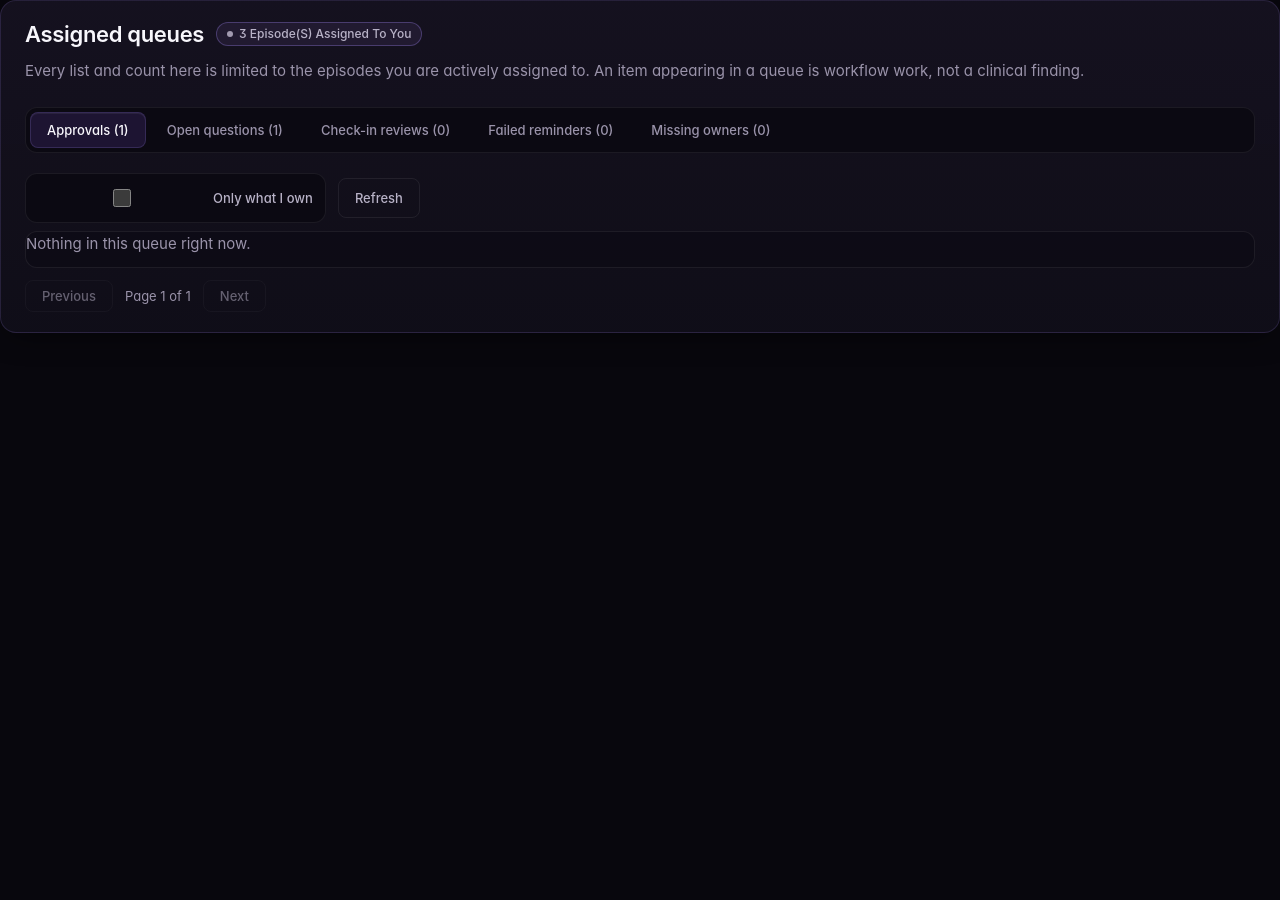
Test: AssignedQueues › renders a clarification answer as escaped text and offers the review actions
This screenshot has width=1280, height=900.
Click the tab "Open questions (1)". click: (225, 130)
box: top-left (150, 112), bottom-right (300, 148)
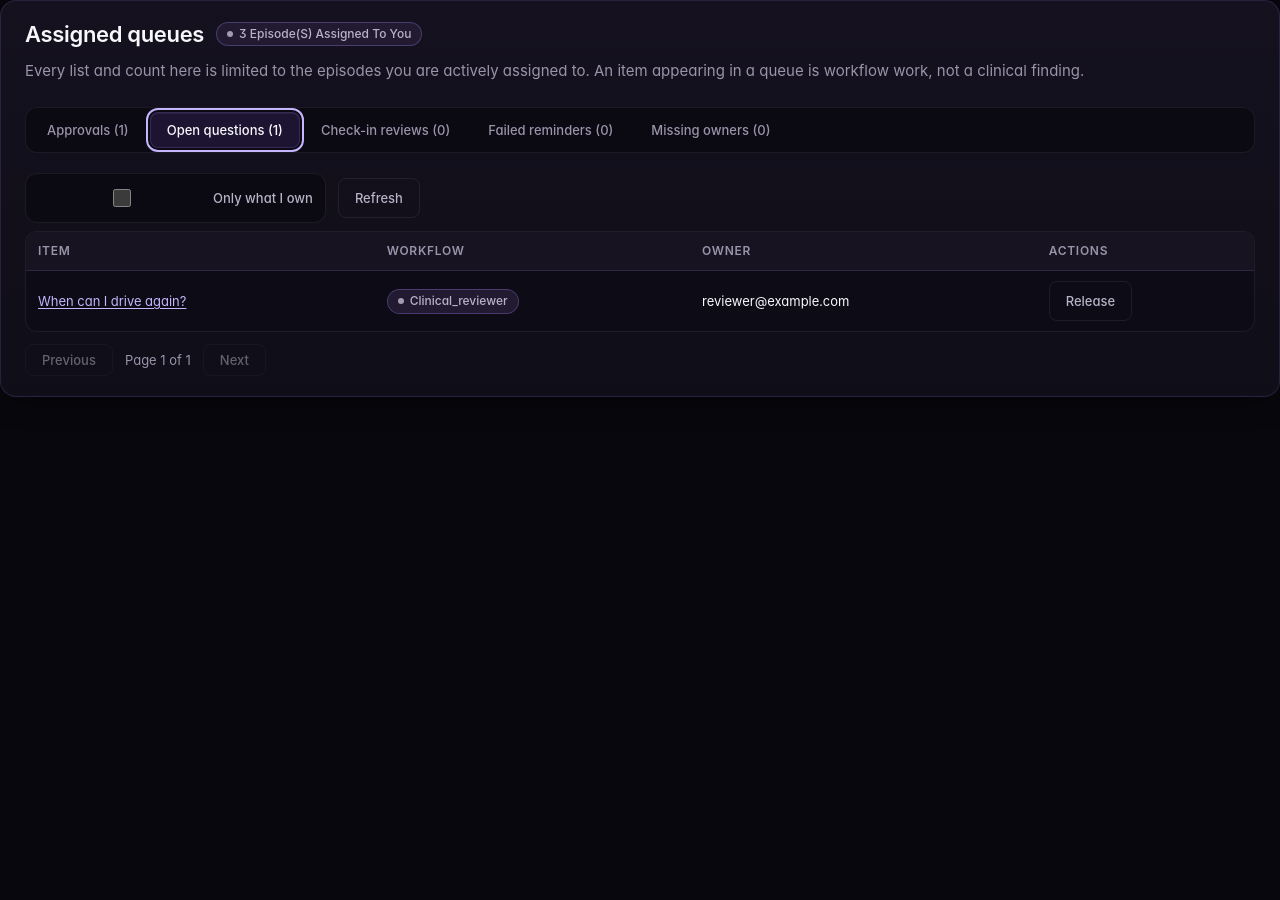
Click the button "When can I drive again?". click: (112, 301)
box: top-left (38, 291), bottom-right (186, 311)
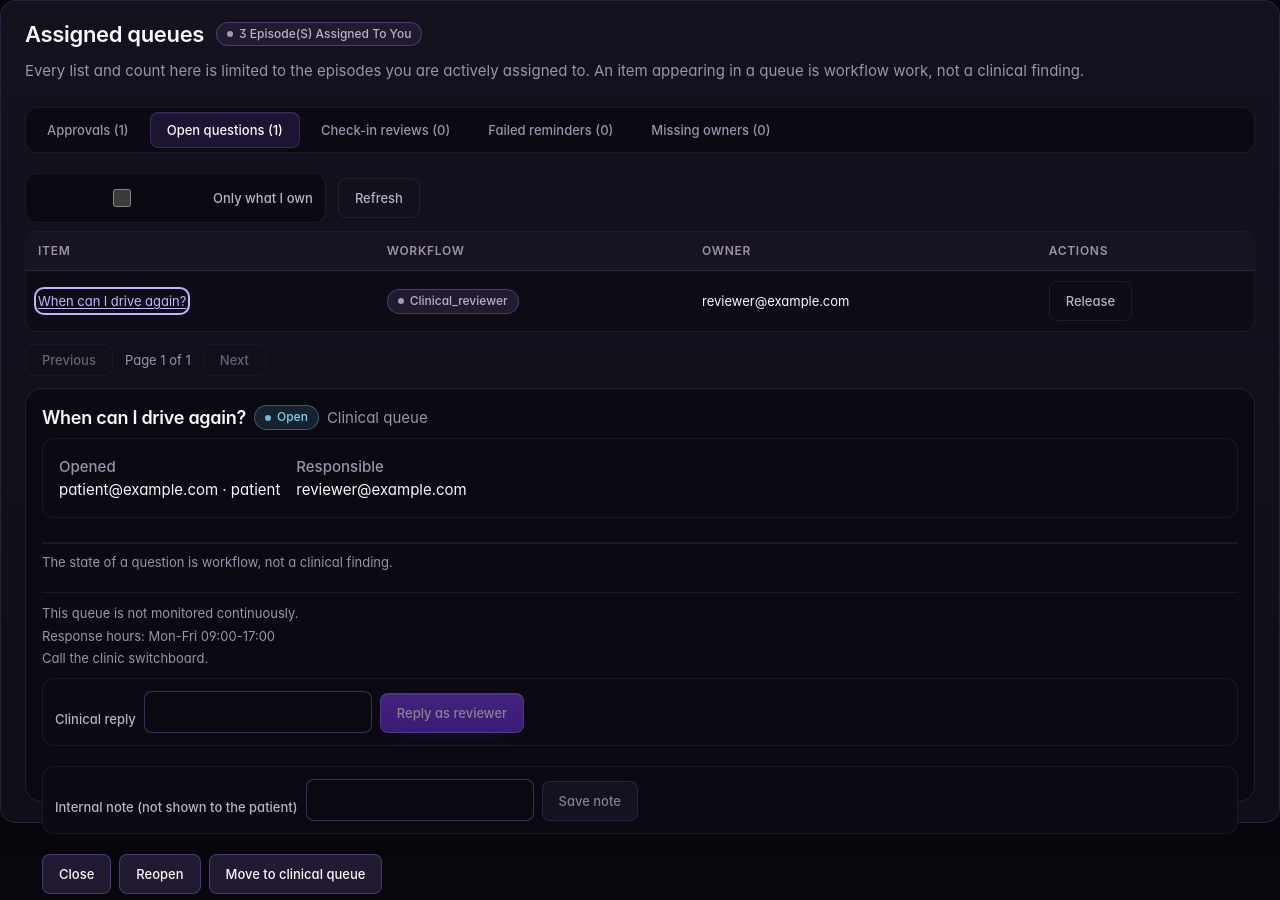
expect the text "Response hours: Mon-Fri 09:00-17:00" is shown: met, box top-left (42, 628), bottom-right (275, 644)
expect the text "Call the clinic switchboard." is shown: met, box top-left (42, 650), bottom-right (208, 666)
expect the button "Reply as reviewer" is shown: met, box top-left (380, 693), bottom-right (524, 733)
